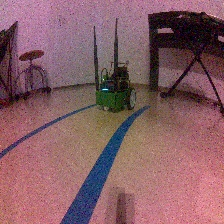rob: (94, 65, 136, 111)
